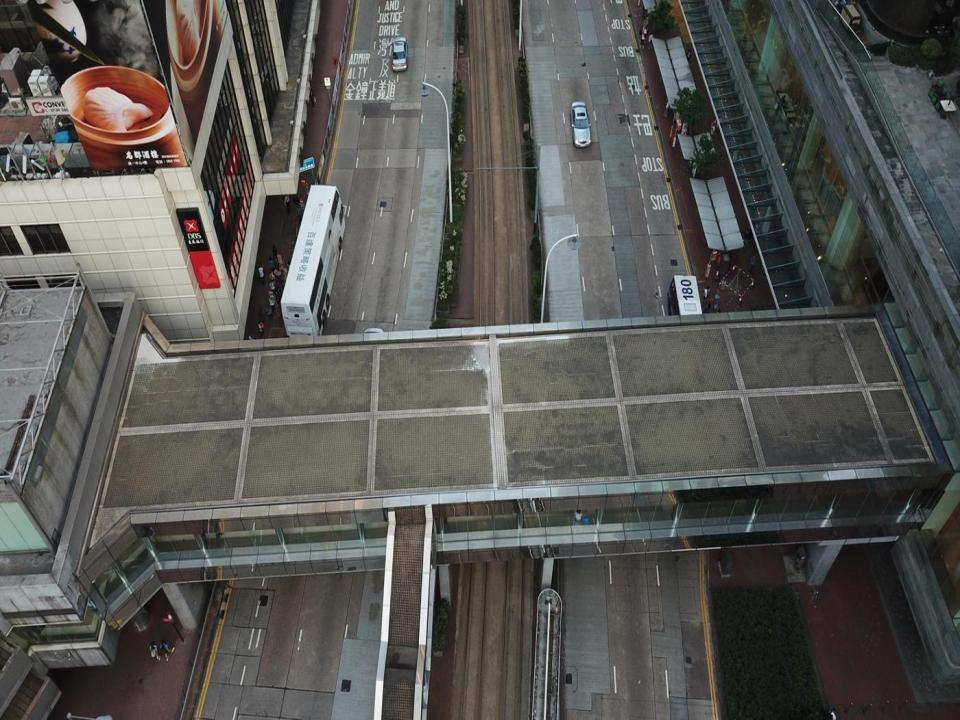bus: (280, 184, 346, 344), (354, 327, 391, 435), (666, 275, 703, 369)
car: (571, 102, 591, 147), (391, 37, 407, 71)
